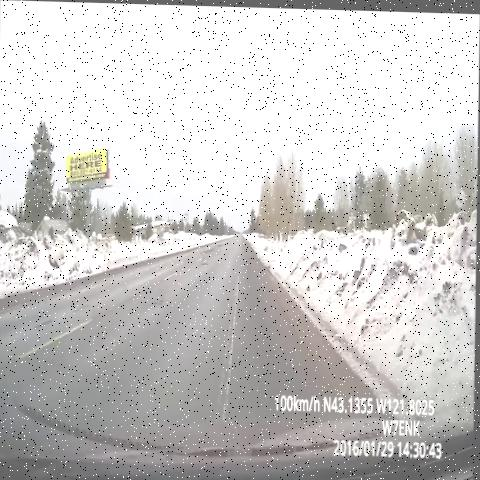pothole: (150, 291, 170, 316), (197, 253, 211, 273), (198, 243, 213, 260), (216, 238, 228, 258)
